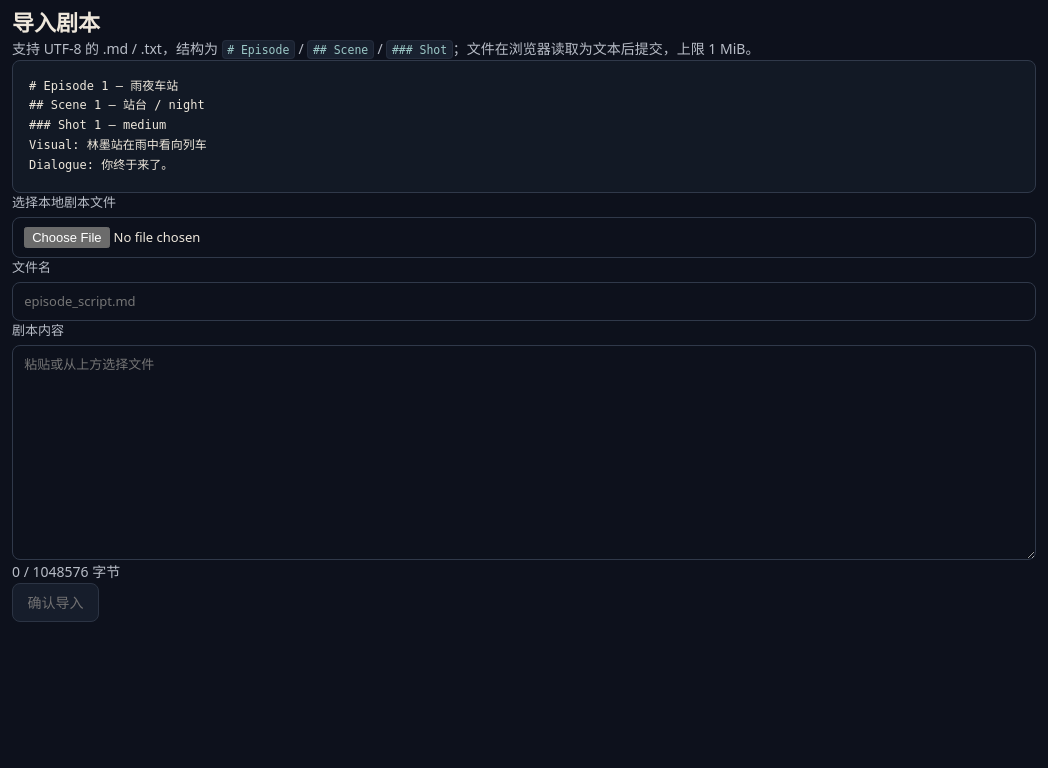
Scenario: ScriptImportPanel › keeps the text and shows the server reason when the import fails
The image size is (1048, 768).
Type "# Episode 1 — Rain" into the text box labelled "剧本内容" at x=524, y=453, box [12, 345, 1036, 560]
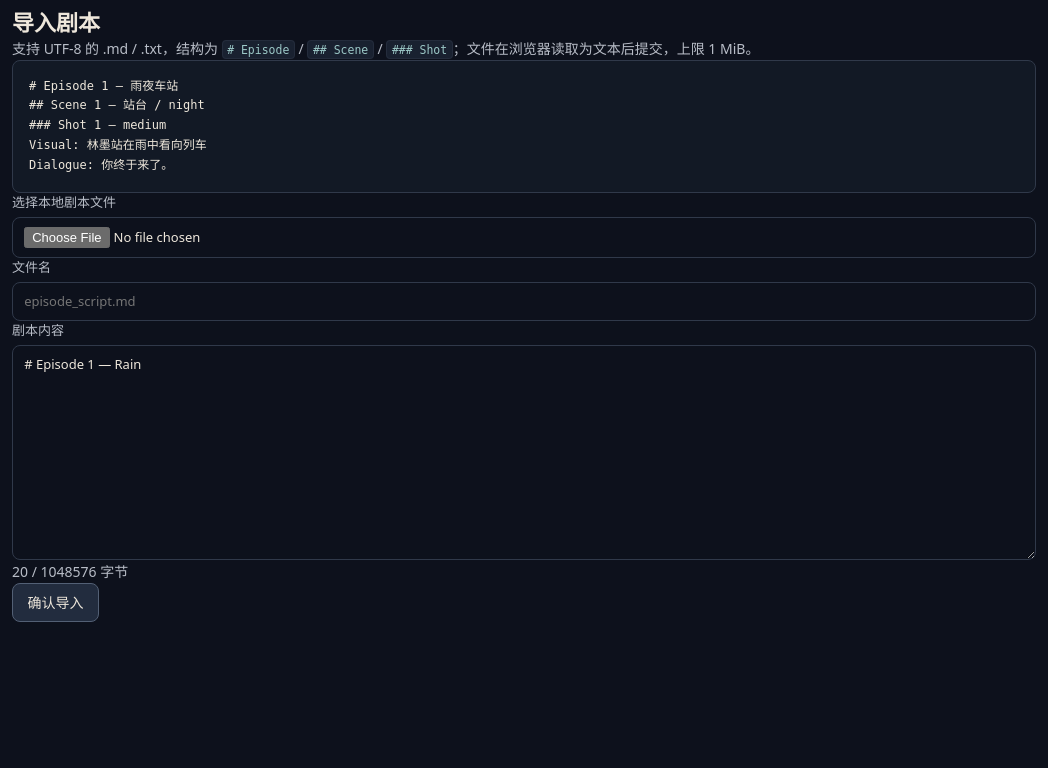
Click the button with test id "script-import-submit" at x=55, y=602, box [12, 583, 99, 622]
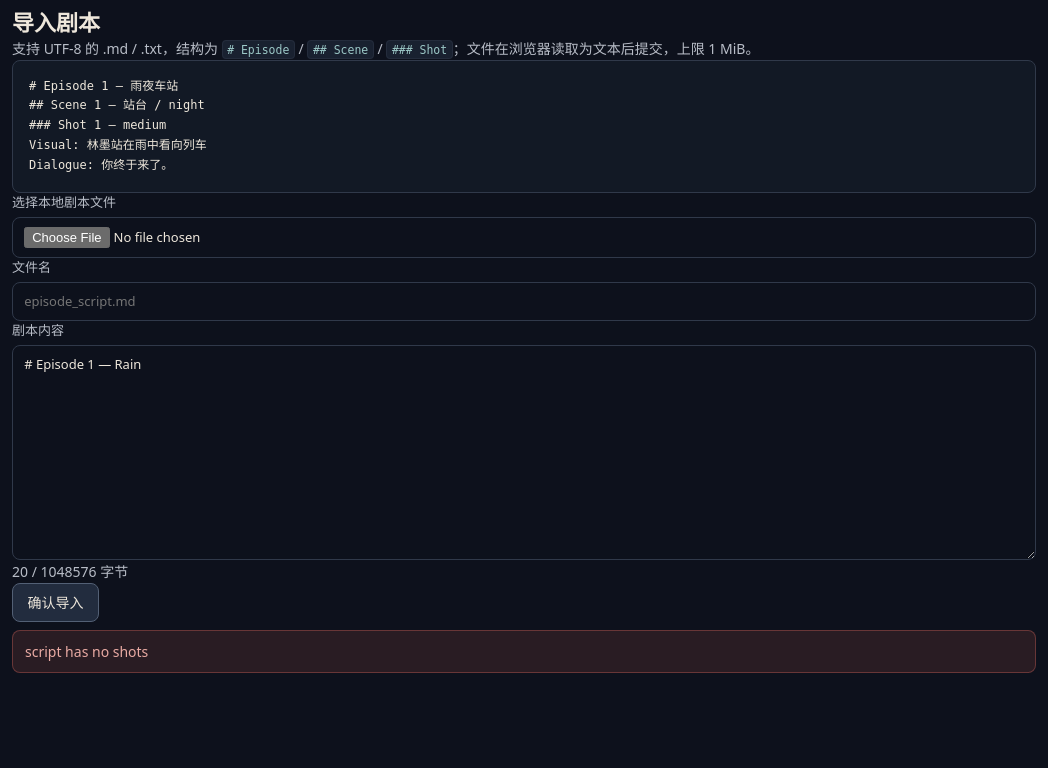
Expected: the message with test id "script-import-error" reads "script has no shots", [25, 642, 148, 661]
